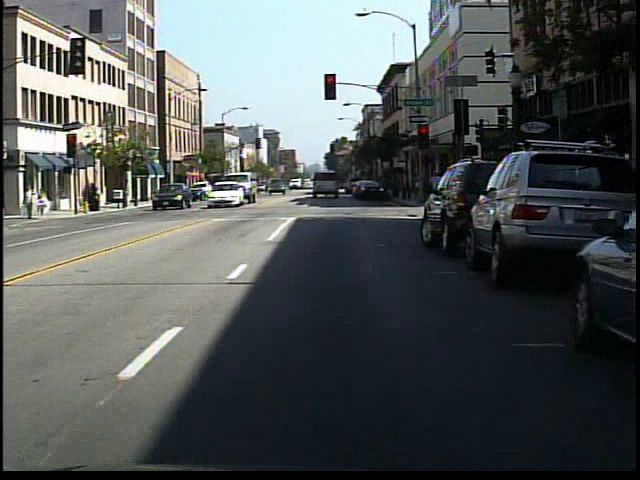person: (21, 182, 39, 223), (37, 186, 54, 220)
